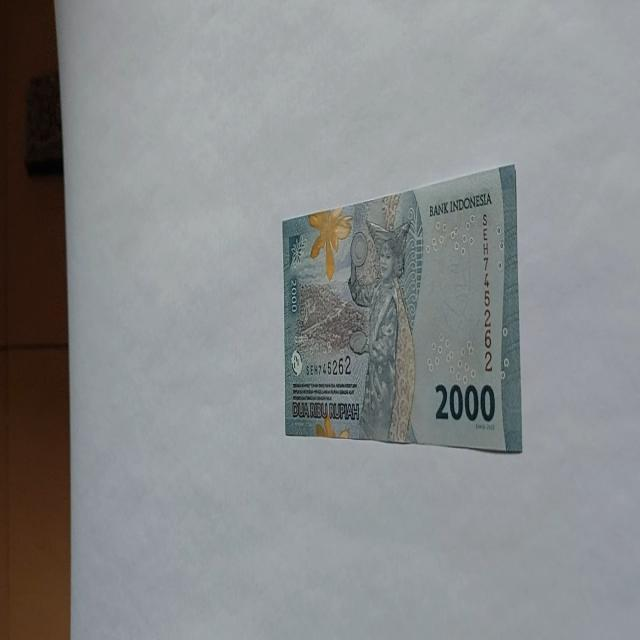dua ribu rupiah: (282, 162, 522, 454), (347, 217, 417, 443)
